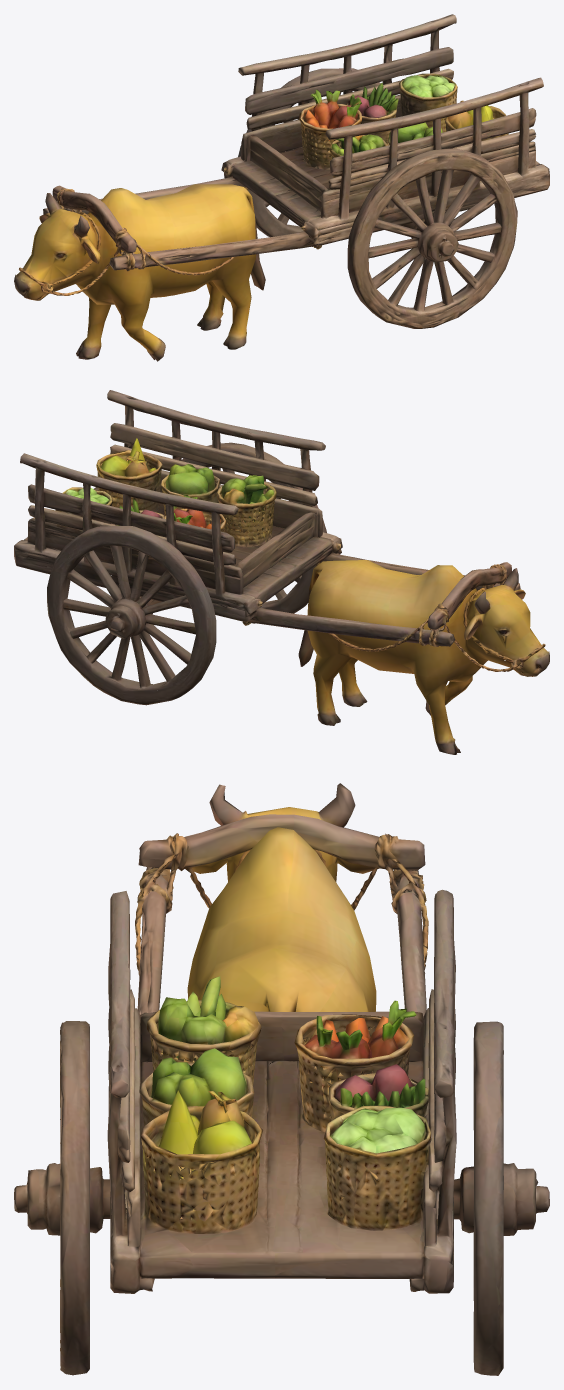
File: xe-bo.327dfc8a.glb
3 renders of one model, top to bottom at view 1: azimuth 30°, elevation 25°; view 2: azimuth 150°, elevation 25°; view 3: azimuth 270°, elevation 25°, orthographic. The views are drawn at different scales.
Visible parts, largest first — view 1: tripo_node_3d8f8758-ac8a-424e-9aa5-c139c53c9dc5; view 2: tripo_node_3d8f8758-ac8a-424e-9aa5-c139c53c9dc5; view 3: tripo_node_3d8f8758-ac8a-424e-9aa5-c139c53c9dc5.
Part boxes in pixels (x1,y1,x2,y2): tripo_node_3d8f8758-ac8a-424e-9aa5-c139c53c9dc5: [14, 14, 549, 361]; tripo_node_3d8f8758-ac8a-424e-9aa5-c139c53c9dc5: [14, 390, 549, 754]; tripo_node_3d8f8758-ac8a-424e-9aa5-c139c53c9dc5: [14, 783, 549, 1375].
Bounding box in the file's own units: 0.9786 × 0.4258 × 0.499.
Materials: 1 (1 with a texture image).
